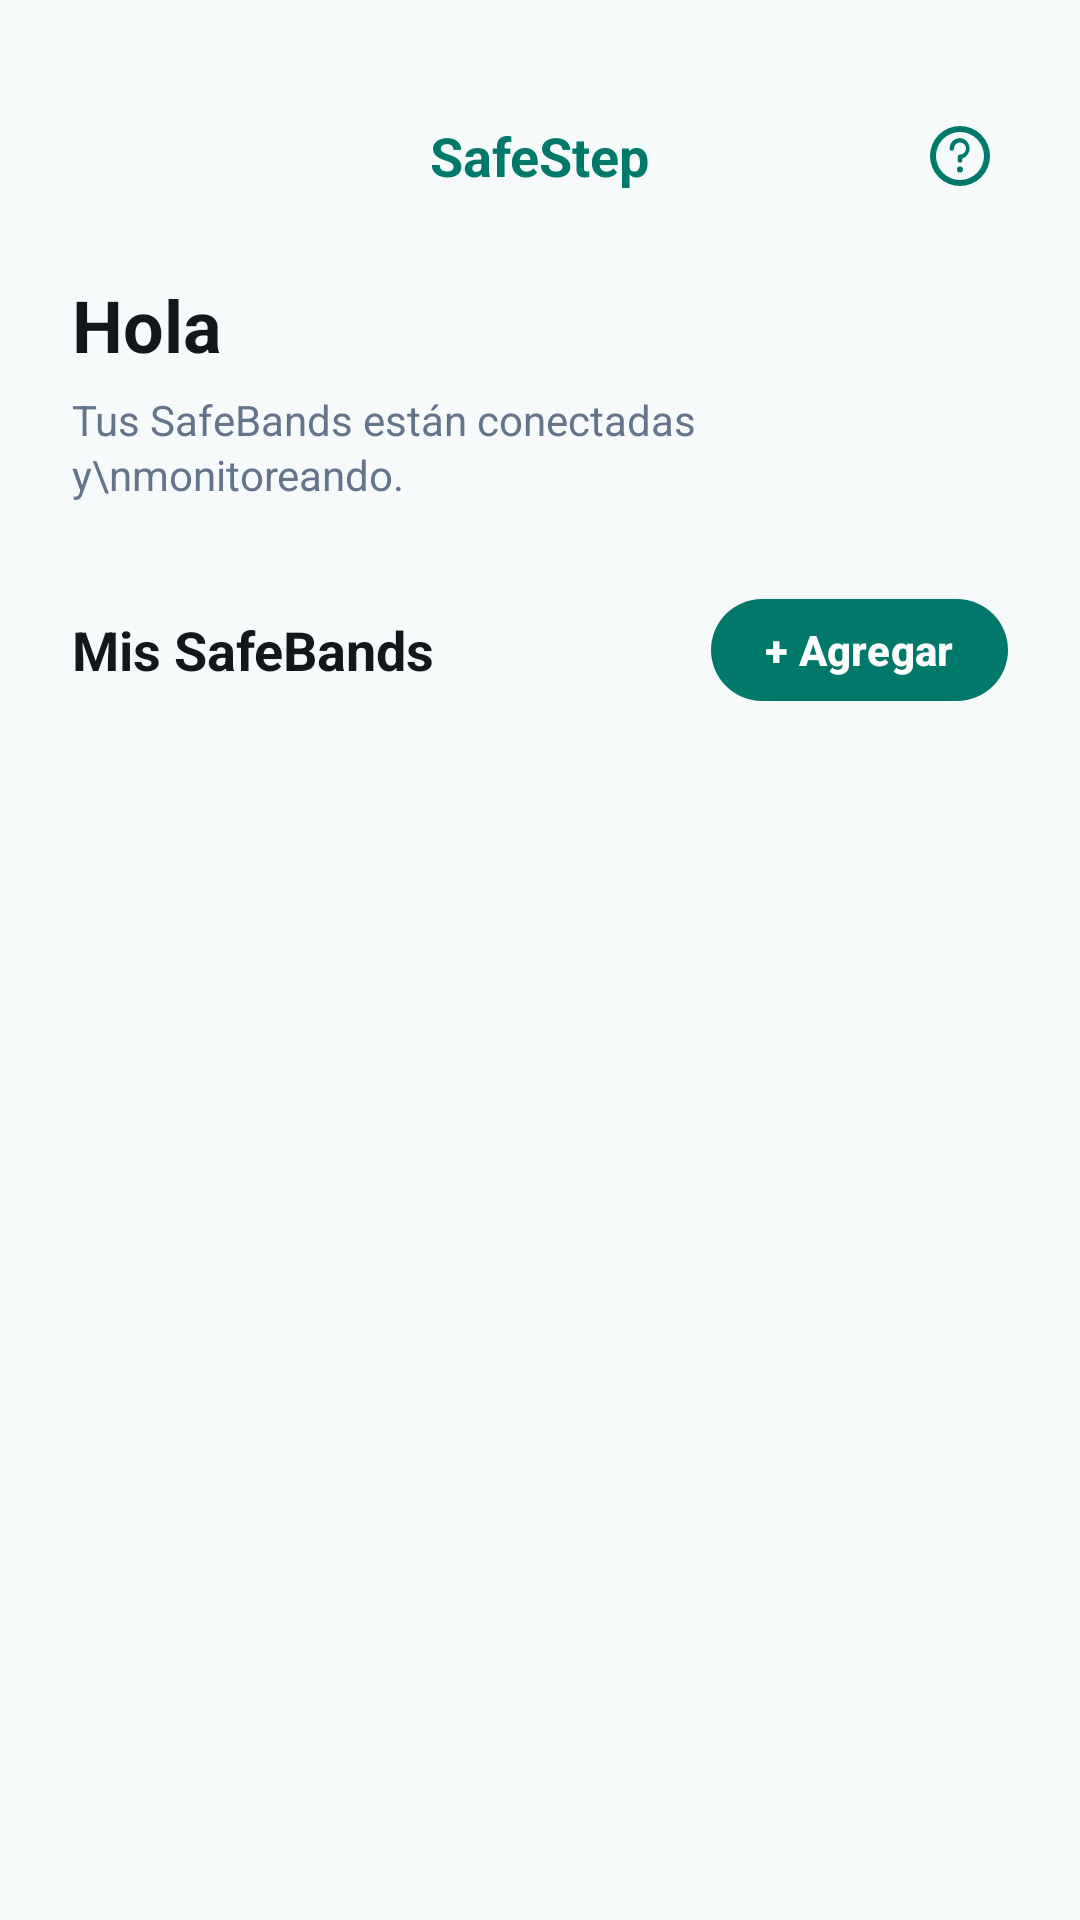

Where to tap for icons on this 1080 × 1920 app screen, as point (x, y):
Ayuda: point (960, 156)
